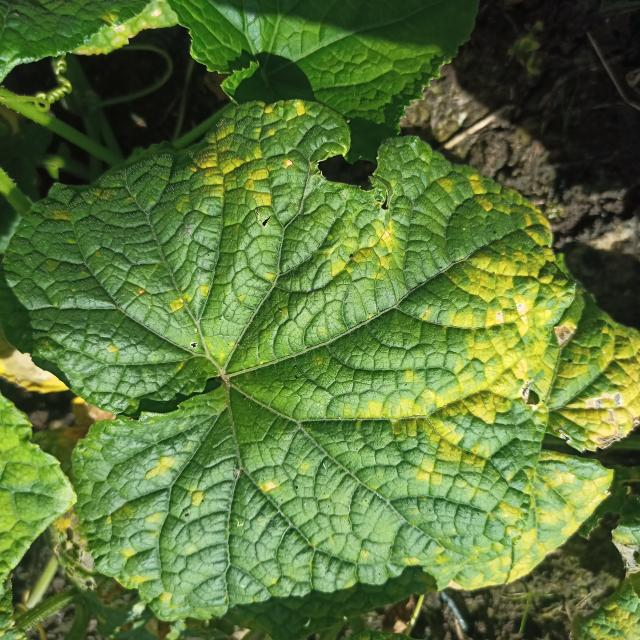disease_cucumber: (354, 176, 640, 581), (188, 102, 400, 284)
